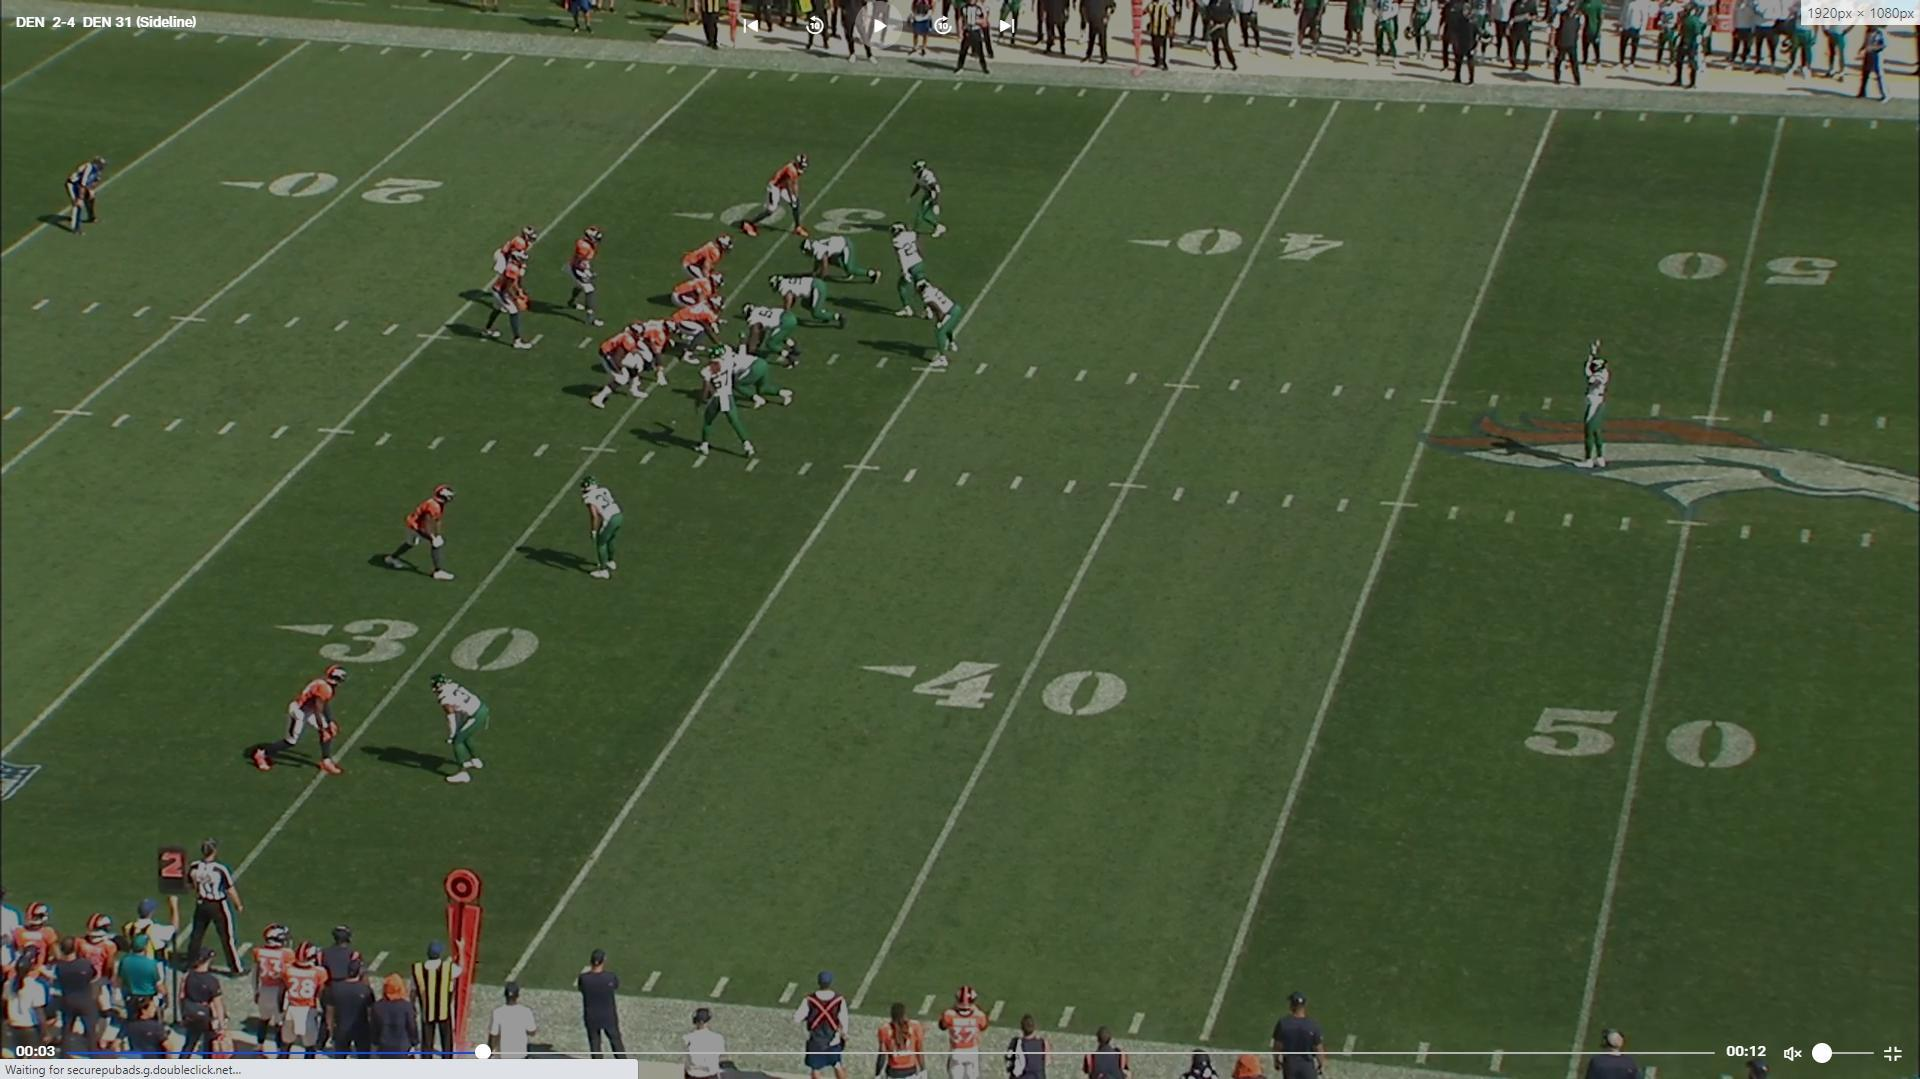defense: (695, 351, 762, 465), (426, 671, 487, 784), (707, 344, 797, 412), (575, 476, 626, 583), (1575, 351, 1616, 476), (773, 274, 853, 334), (917, 276, 966, 371), (800, 235, 880, 292), (735, 302, 802, 369), (883, 222, 927, 321), (909, 159, 953, 242)
oline: (593, 322, 664, 411), (669, 304, 730, 367), (625, 316, 679, 386), (676, 232, 733, 292), (668, 277, 726, 311)
qb: (487, 233, 533, 352)
ref: (181, 834, 246, 964), (65, 150, 116, 235), (949, 0, 998, 80)
skill: (249, 657, 353, 782), (383, 478, 463, 587), (753, 150, 816, 239), (570, 223, 610, 328), (503, 223, 542, 322)
